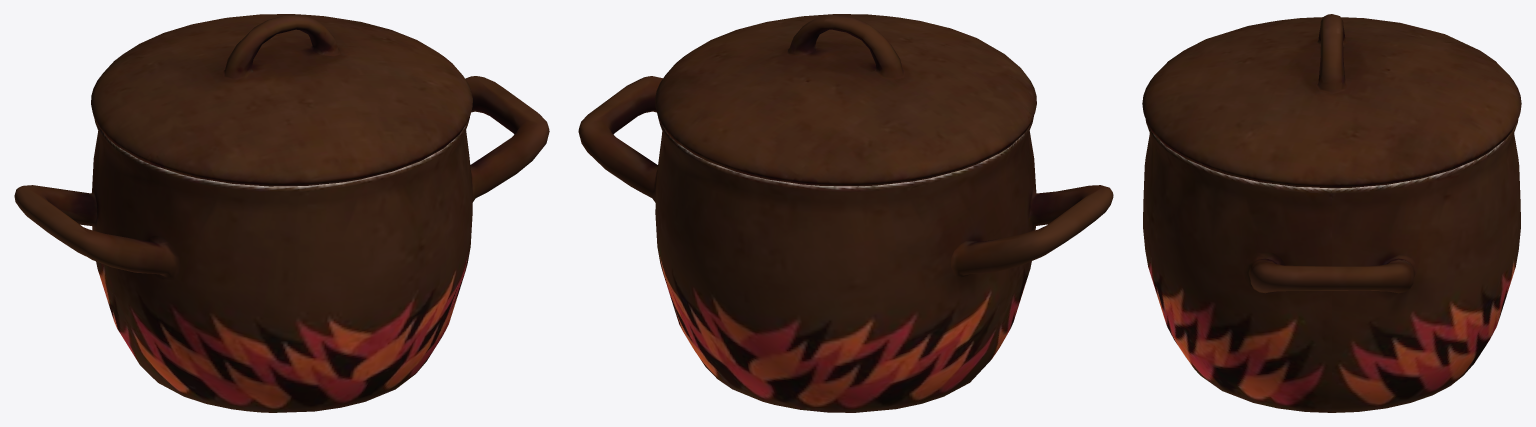
File: pot_enamel.glb
The picture shows the model from 3 angles, left to right: view 1: azimuth 30°, elevation 25°; view 2: azimuth 150°, elevation 25°; view 3: azimuth 270°, elevation 25°; orthographic projection.
Visible parts, largest first — view 1: pot_enamel_01_base, pot_enamel_01_lid; view 2: pot_enamel_01_base, pot_enamel_01_lid; view 3: pot_enamel_01_base, pot_enamel_01_lid.
Part boxes in pixels (left/top/right/bottom): pot_enamel_01_base: left=14, top=76, right=549, bottom=412; pot_enamel_01_lid: left=91, top=14, right=472, bottom=186; pot_enamel_01_base: left=578, top=76, right=1113, bottom=412; pot_enamel_01_lid: left=655, top=14, right=1036, bottom=186; pot_enamel_01_base: left=1143, top=119, right=1520, bottom=412; pot_enamel_01_lid: left=1142, top=14, right=1521, bottom=188.
Bounding box in the file's own units: 0.2627 × 0.178 × 0.1805.
Materials: 1 (1 with a texture image).
